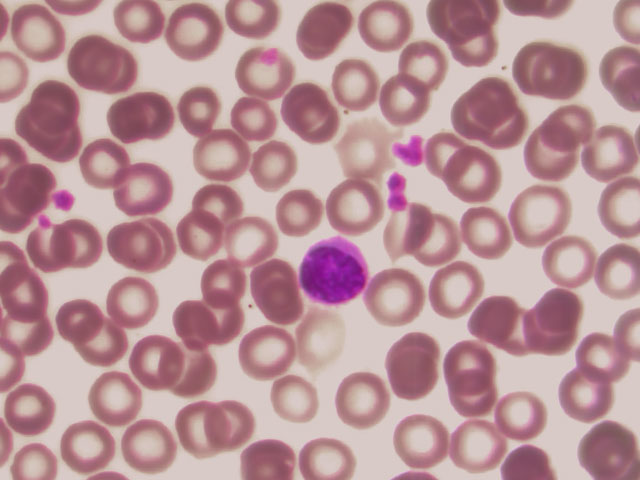Platelets: (380, 168, 414, 218), (392, 132, 427, 174), (47, 183, 79, 216)
RBC: (294, 415, 356, 480), (578, 415, 640, 480), (392, 29, 454, 93), (375, 74, 437, 138), (331, 53, 393, 117), (444, 147, 506, 211), (453, 198, 515, 262), (419, 211, 481, 275), (372, 202, 434, 266), (365, 265, 427, 329), (423, 258, 485, 322), (459, 286, 521, 350), (523, 289, 585, 353), (539, 233, 601, 297), (515, 183, 577, 247), (512, 141, 574, 205), (539, 101, 601, 165), (466, 75, 528, 139), (537, 43, 599, 107), (498, 38, 560, 102), (578, 123, 640, 187), (578, 172, 640, 236), (578, 241, 640, 305), (569, 320, 631, 384), (552, 362, 614, 426), (494, 380, 556, 444), (448, 408, 510, 472), (391, 403, 453, 467), (332, 371, 394, 435), (383, 330, 445, 394), (294, 1, 356, 64), (358, 1, 420, 64), (9, 1, 69, 62), (68, 32, 126, 89), (110, 88, 168, 145), (75, 137, 133, 194), (26, 75, 84, 132), (15, 102, 73, 159), (112, 162, 170, 219), (107, 215, 165, 272), (51, 217, 109, 274), (23, 217, 81, 274), (2, 304, 60, 361), (2, 382, 60, 439), (55, 417, 113, 474), (88, 371, 146, 428), (126, 333, 184, 390), (75, 316, 133, 373), (53, 292, 111, 349), (102, 272, 160, 329), (173, 294, 231, 351), (172, 341, 230, 398), (171, 397, 229, 454), (201, 396, 259, 453), (120, 416, 178, 473), (241, 423, 299, 480), (266, 374, 324, 431), (239, 324, 297, 381), (250, 273, 308, 330), (188, 258, 246, 315), (217, 214, 275, 271), (172, 213, 230, 270), (188, 178, 246, 235), (190, 129, 248, 186), (243, 139, 301, 196), (271, 187, 329, 244), (322, 179, 380, 236), (330, 122, 388, 179), (281, 87, 339, 144), (220, 92, 278, 149), (170, 83, 228, 140), (235, 48, 293, 105), (165, 6, 223, 63), (1, 262, 58, 319), (429, 1, 487, 55), (109, 1, 171, 48), (225, 1, 283, 43)
WBC: (297, 236, 373, 304)
